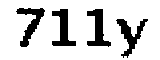1: (82, 6, 112, 51), (48, 5, 77, 50)
7: (14, 1, 47, 53)
y: (113, 14, 149, 60)
